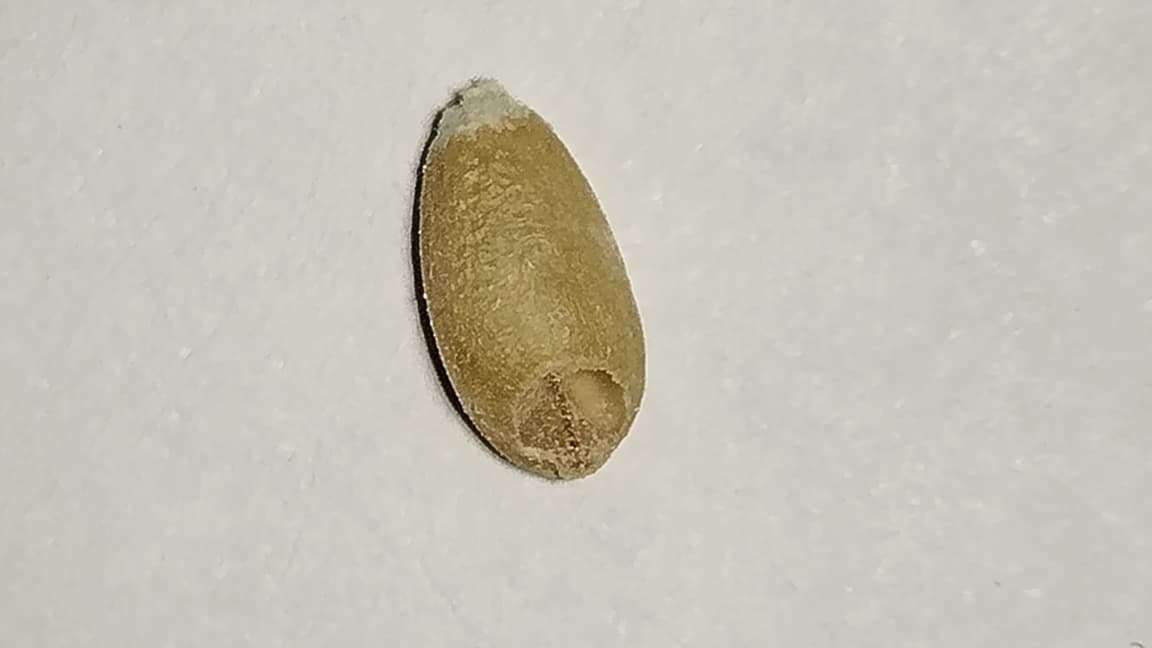damage: (418, 80, 644, 477)
insectdamage: (500, 366, 636, 462)
